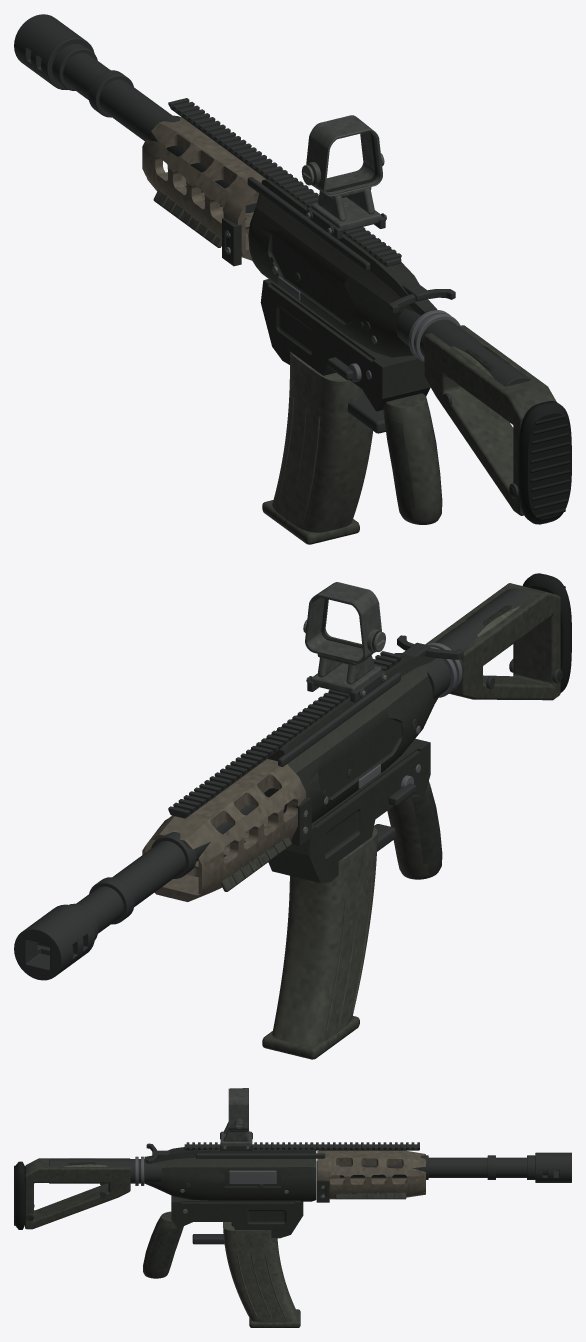
File: carbine.glb
3 renders of one model, top to bottom at view 1: azimuth 30°, elevation 25°; view 2: azimuth 150°, elevation 25°; view 3: azimuth 270°, elevation 25°, orthographic. The views are drawn at different scales.
Visible parts, largest first — view 1: WeaponBody, Magazine, Butt stock, Butt plate; view 2: WeaponBody, Magazine, Butt stock, Butt plate; view 3: WeaponBody, Magazine, Butt stock, Butt plate.
Boxes of the visible parts, left/top/right/bottom form: WeaponBody: left=14, top=14, right=531, bottom=524; Magazine: left=262, top=351, right=372, bottom=544; Butt stock: left=424, top=325, right=556, bottom=515; Butt plate: left=518, top=401, right=571, bottom=524; WeaponBody: left=14, top=582, right=562, bottom=980; Magazine: left=262, top=827, right=377, bottom=1059; Butt stock: left=425, top=583, right=560, bottom=700; Butt plate: left=522, top=573, right=571, bottom=692; WeaponBody: left=26, top=1088, right=571, bottom=1278; Magazine: left=223, top=1222, right=300, bottom=1327; Butt stock: left=25, top=1158, right=130, bottom=1229; Butt plate: left=14, top=1161, right=24, bottom=1229.
Bounding box in the file's own units: 0.09 × 0.4507 × 0.992.
Materials: 14 (9 with a texture image).
